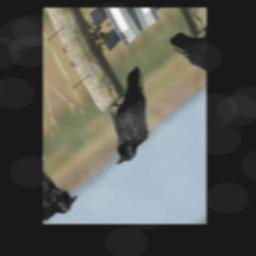Crow: (85, 63, 171, 170)
